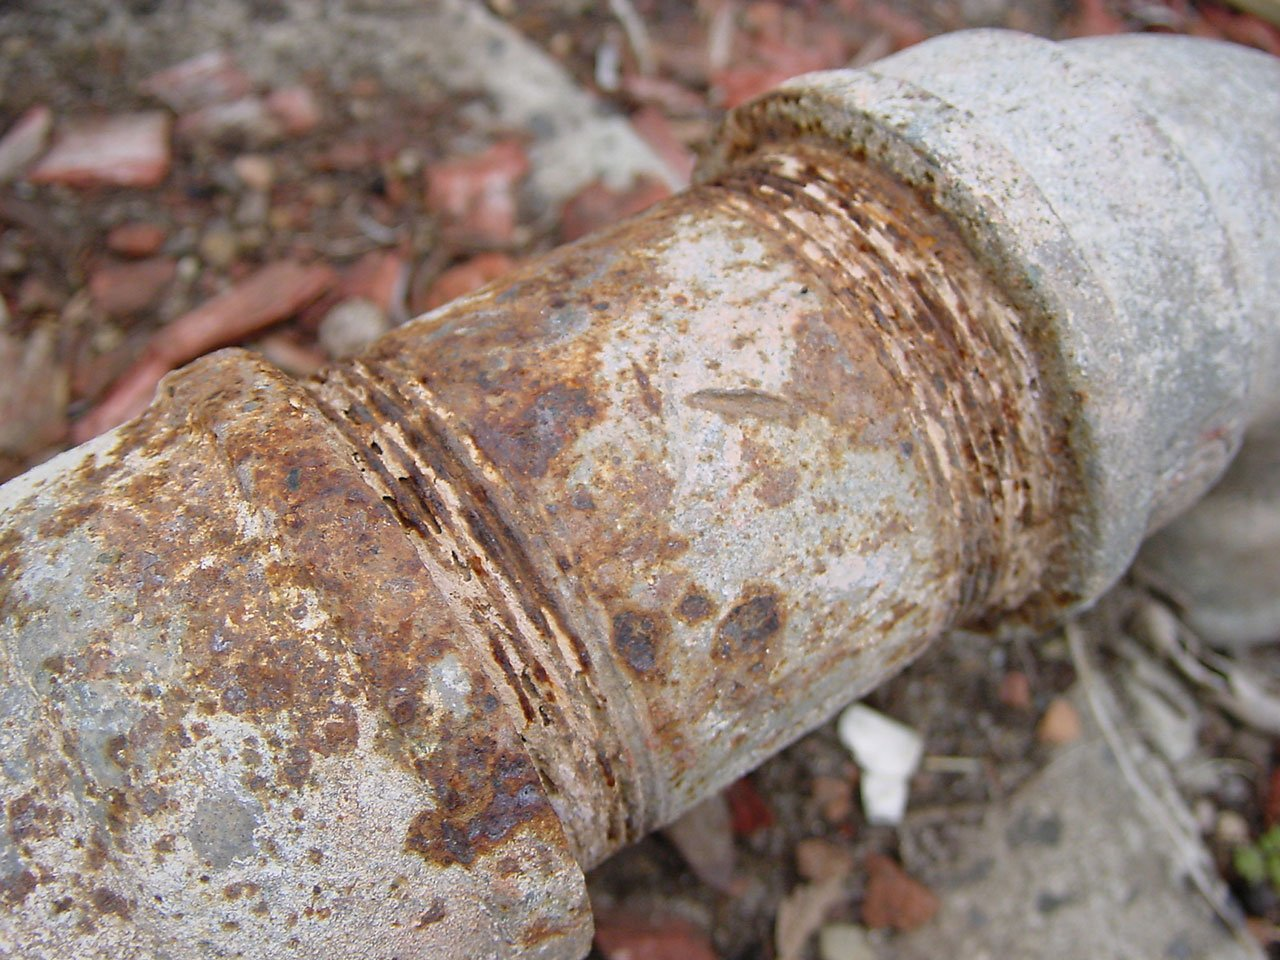Moderate: (40, 51, 1114, 833)
